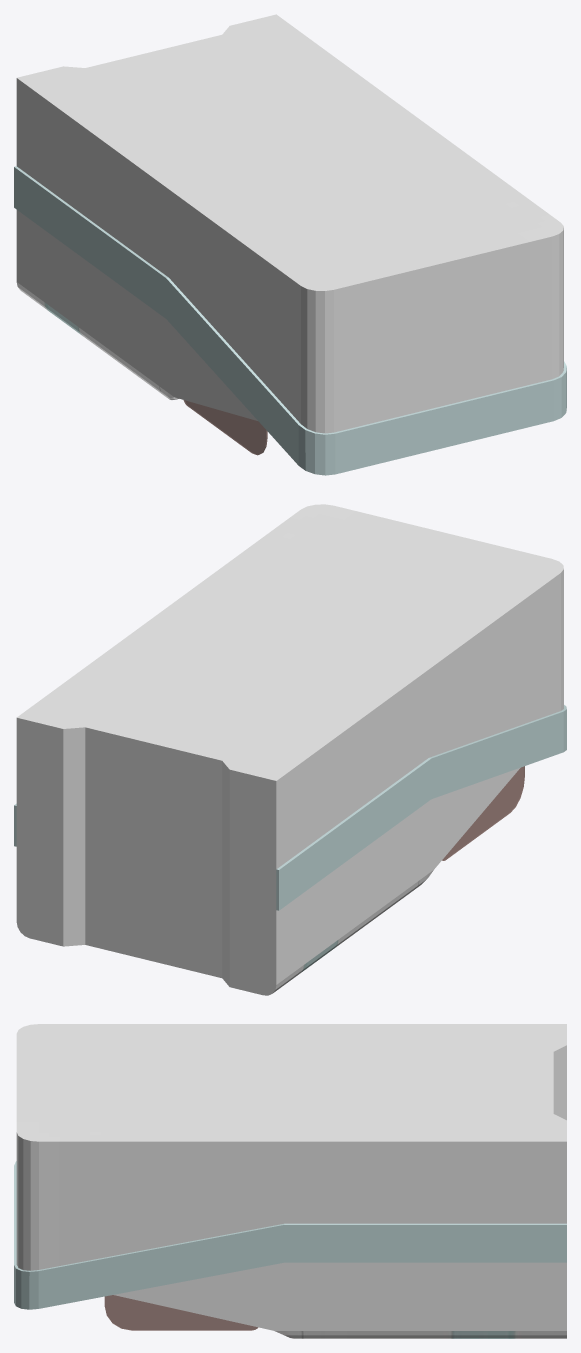
The picture shows the model from 3 angles, top to bottom: view 1: azimuth 30°, elevation 25°; view 2: azimuth 150°, elevation 25°; view 3: azimuth 270°, elevation 25°; orthographic projection. The views are drawn at different scales.
Parts seen in each view (by area): view 1: 主体2, 弧形挡板, 侧面补板3, 褐色挡板; view 2: 主体2, 弧形挡板, 侧面补板3, 褐色挡板; view 3: 主体2, 弧形挡板, 侧面补板3, 褐色挡板.
Part boxes in pixels (x1=…): 主体2: x1=16, y1=14, x2=563, y2=433; 弧形挡板: x1=14, y1=166, x2=566, y2=475; 侧面补板3: x1=159, y1=346, x2=257, y2=420; 褐色挡板: x1=183, y1=400, x2=267, y2=455; 主体2: x1=16, y1=504, x2=563, y2=995; 弧形挡板: x1=14, y1=705, x2=566, y2=910; 侧面补板3: x1=416, y1=767, x2=520, y2=888; 褐色挡板: x1=442, y1=766, x2=524, y2=860; 主体2: x1=16, y1=1024, x2=566, y2=1338; 弧形挡板: x1=14, y1=1161, x2=566, y2=1309; 侧面补板3: x1=114, y1=1293, x2=301, y2=1338; 褐色挡板: x1=104, y1=1295, x2=258, y2=1330.
Bounding box in the file's own units: 1.02 × 0.8 × 1.99.
Materials: 5 (3 with a texture image).
